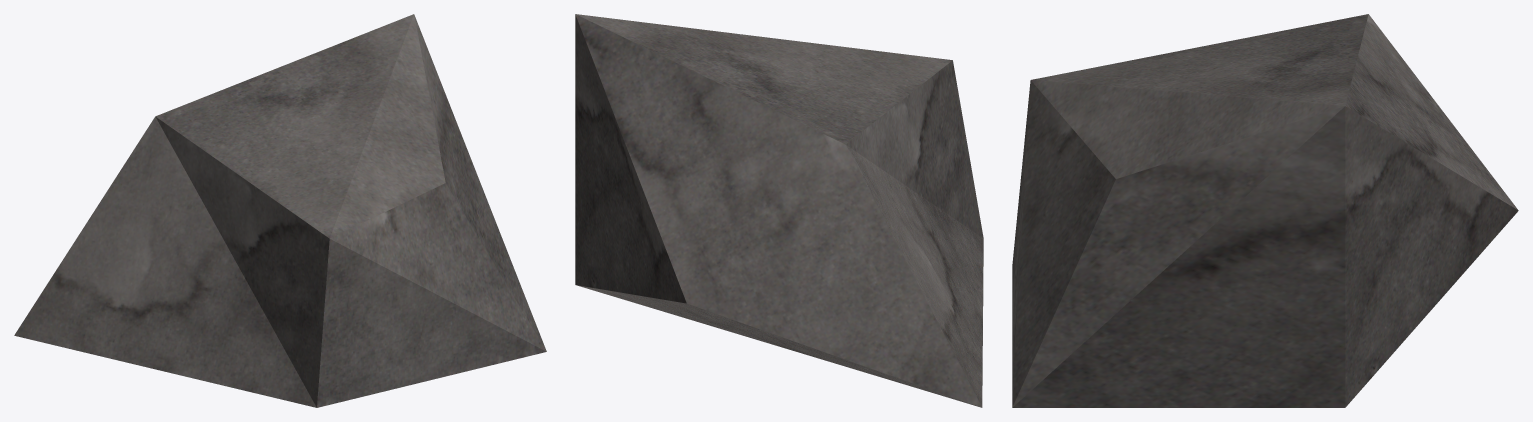
Rendered from rock1.glb.
3 renders of one model, left to right at view 1: azimuth 30°, elevation 25°; view 2: azimuth 150°, elevation 25°; view 3: azimuth 270°, elevation 25°, orthographic. The views are drawn at different scales.
Visible parts, largest first — view 1: Rock1; view 2: Rock1; view 3: Rock1.
Boxes of the visible parts, x1,y1,x2,y2 form: Rock1: (14, 14, 546, 407); Rock1: (575, 14, 983, 407); Rock1: (1012, 14, 1518, 407).
Size of the model in its own units: 3.31 by 2.02 by 3.04.
1 material, 1 textured.
